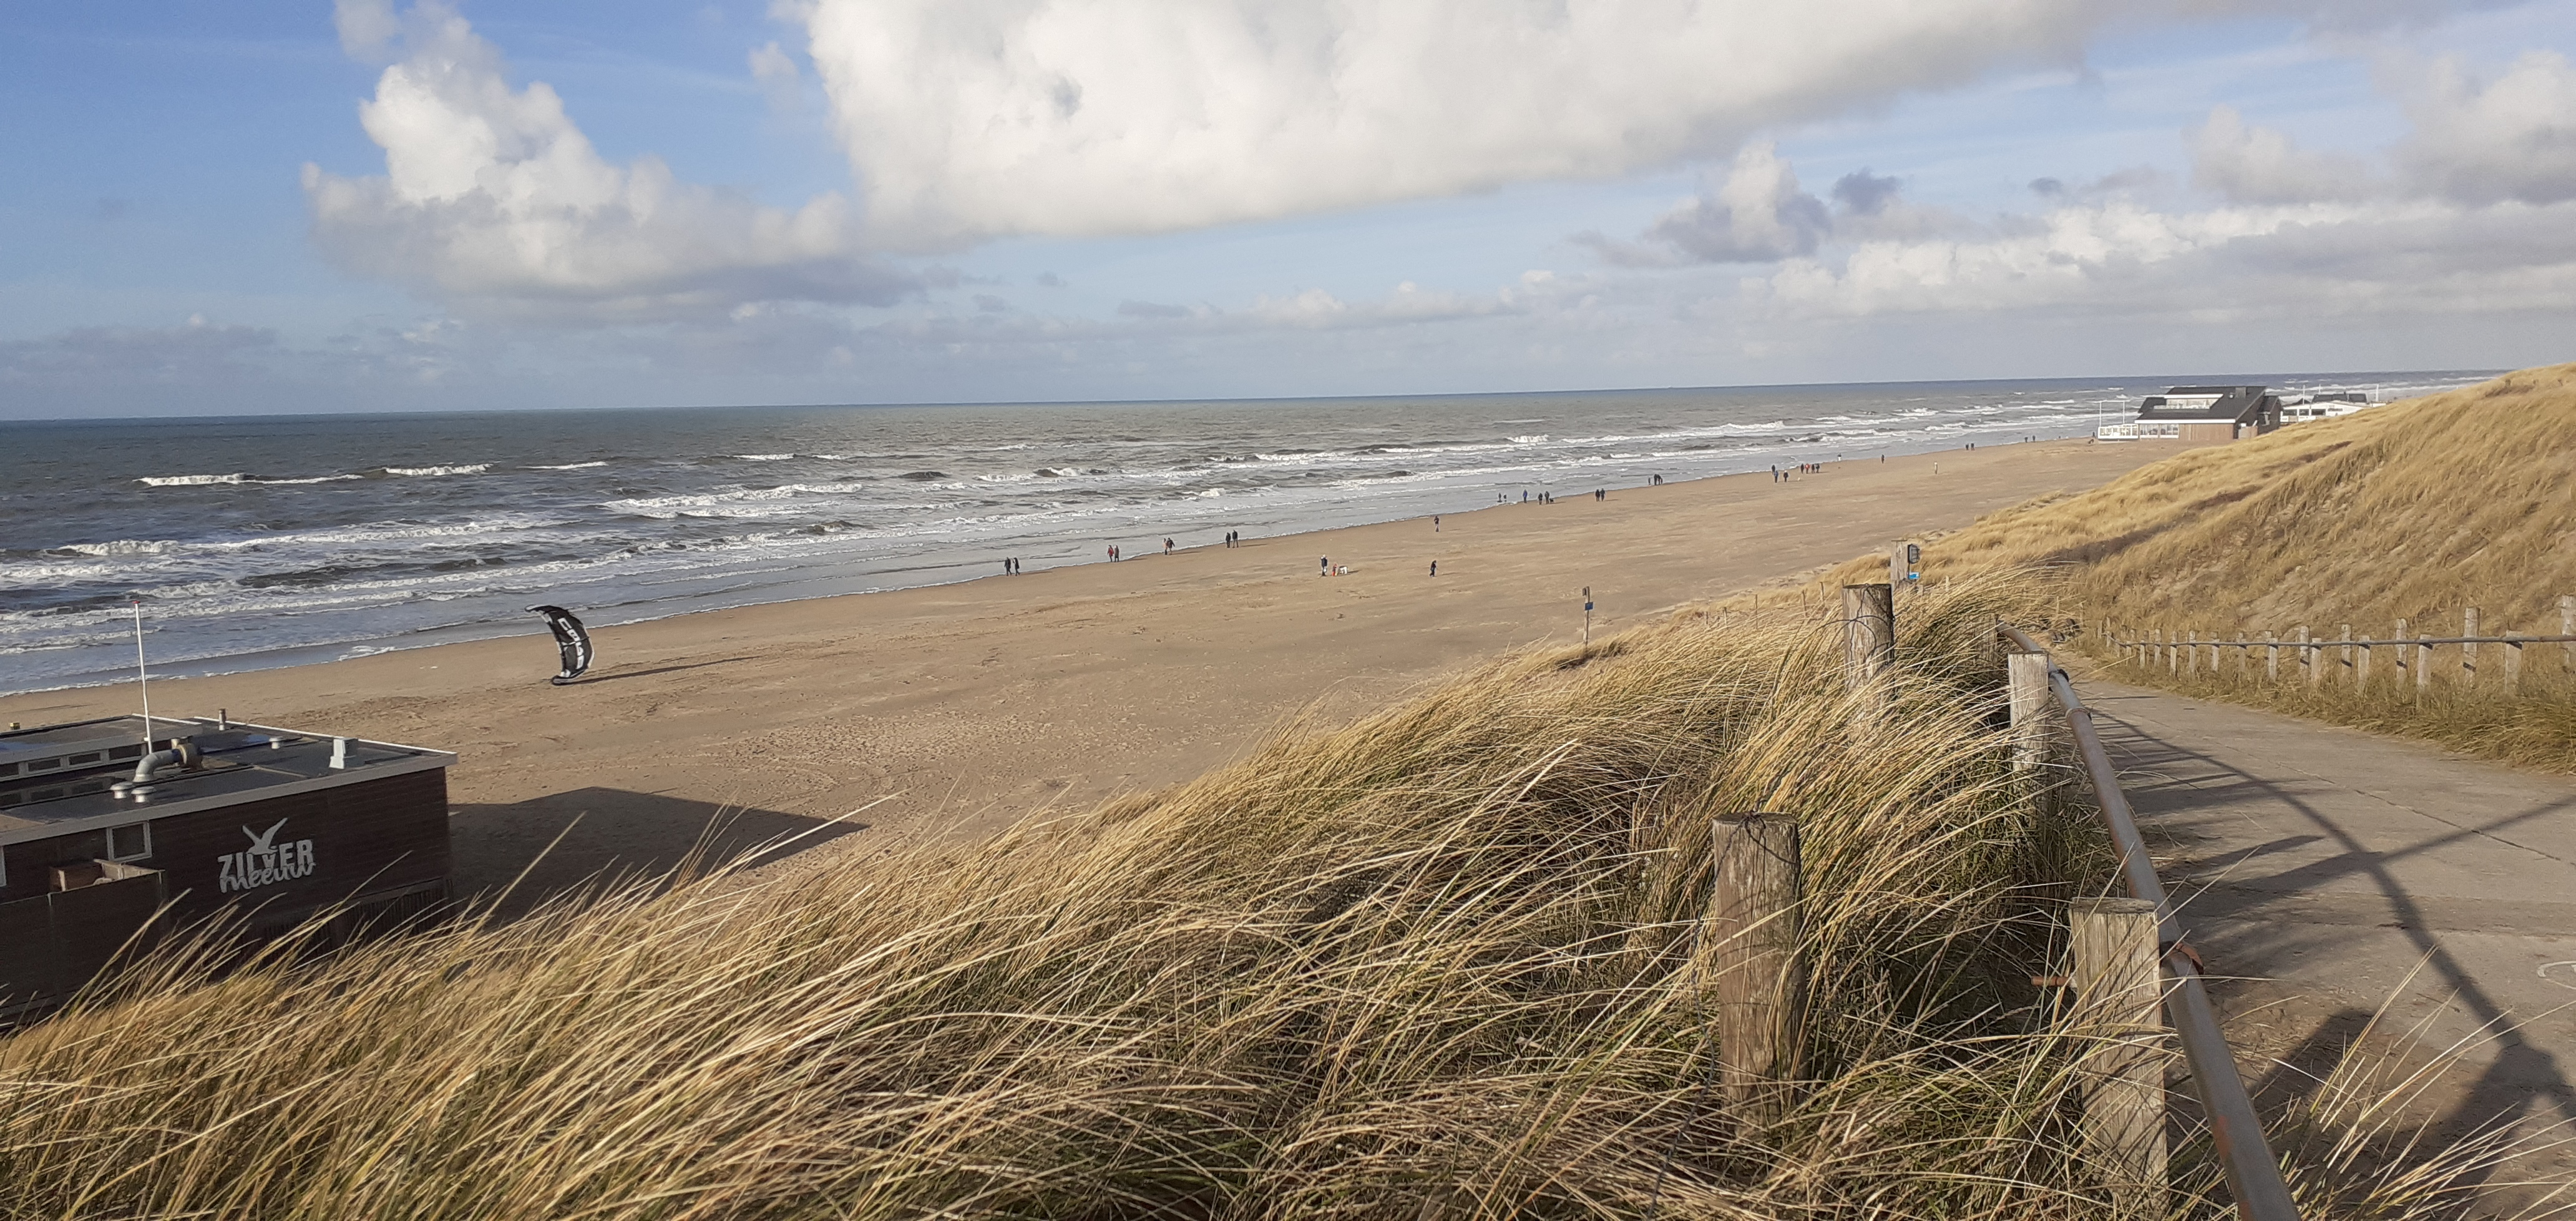pad: (1955, 603, 2576, 1147)
